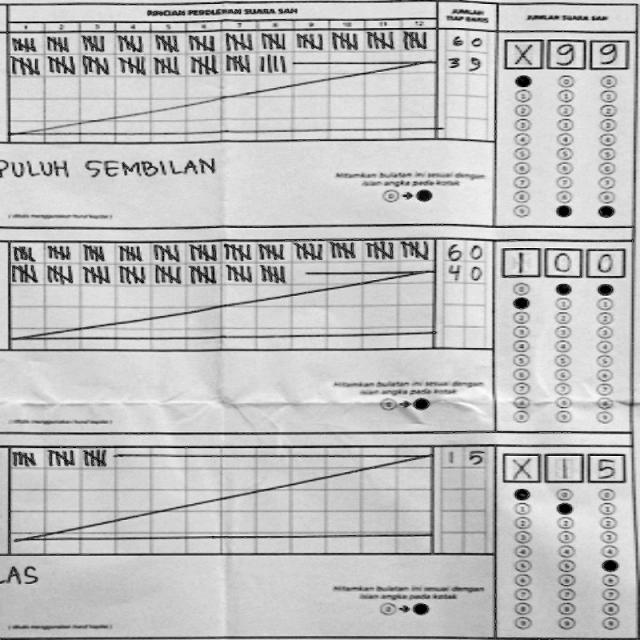Suara: (494, 240, 633, 281), (494, 447, 633, 488), (496, 32, 634, 73)
